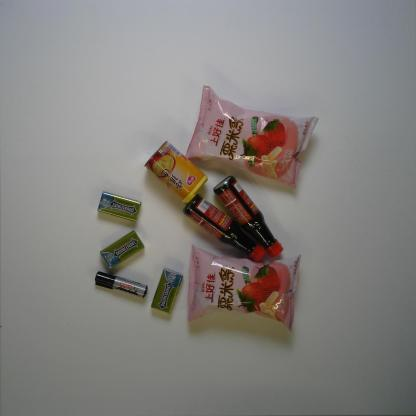Canned Food: (143, 140, 210, 204)
Gum: (99, 229, 145, 270), (150, 267, 184, 315), (95, 190, 142, 222)
Puffed Food: (185, 82, 321, 192), (186, 242, 303, 334)
Seasoner: (181, 193, 267, 265), (212, 174, 284, 258)
Stationery: (94, 270, 149, 299)
